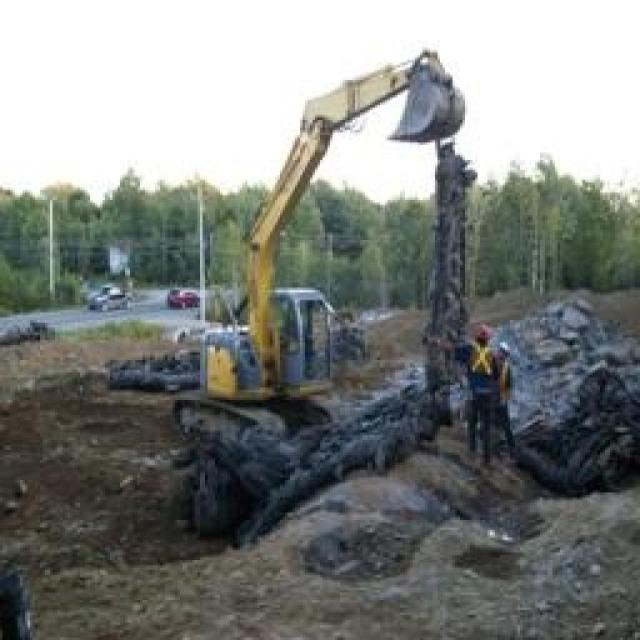Helmet: (495, 330, 521, 369), (468, 320, 498, 350)
Safety Vest: (492, 356, 520, 426), (467, 343, 491, 397)
